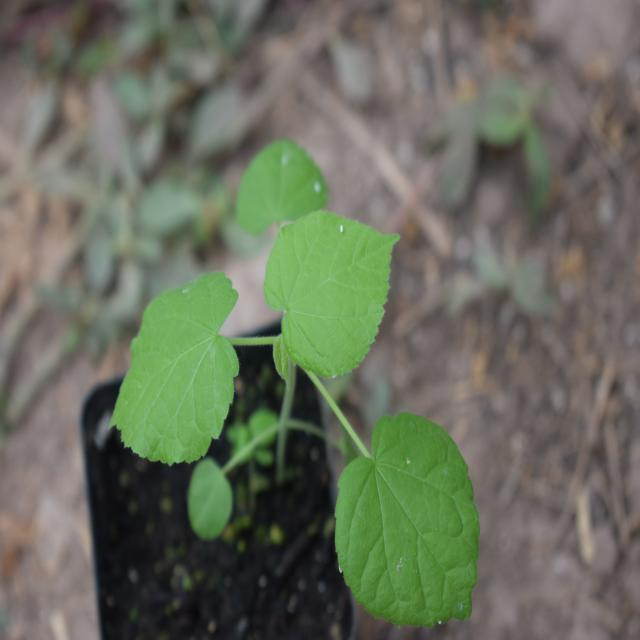abutilon theophrasti: (109, 131, 475, 623)
